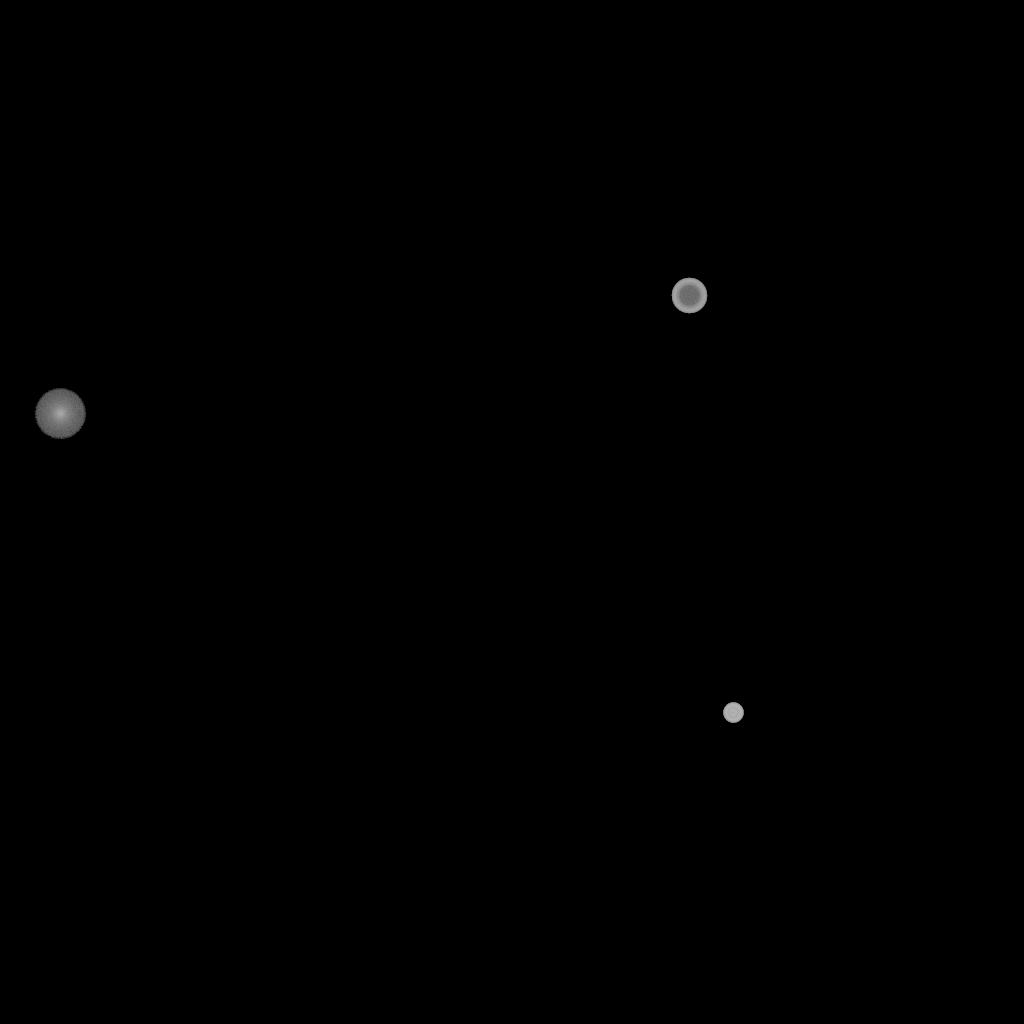depth:-40: (723, 703, 743, 723)
depth:-60: (671, 278, 707, 314)
depth:20: (34, 389, 86, 439)
